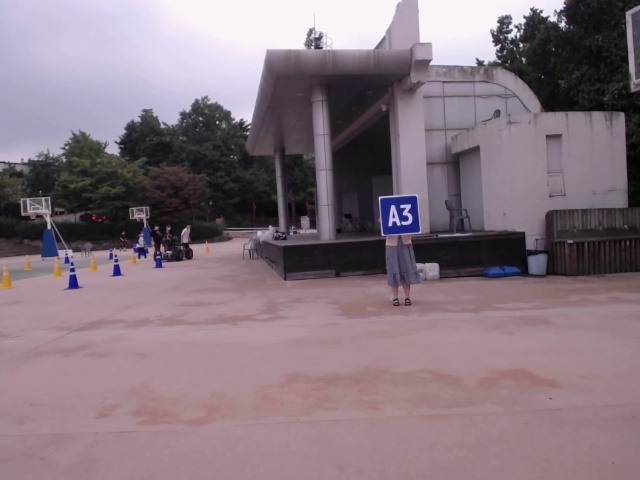delivery_a3: (379, 195, 421, 236)
